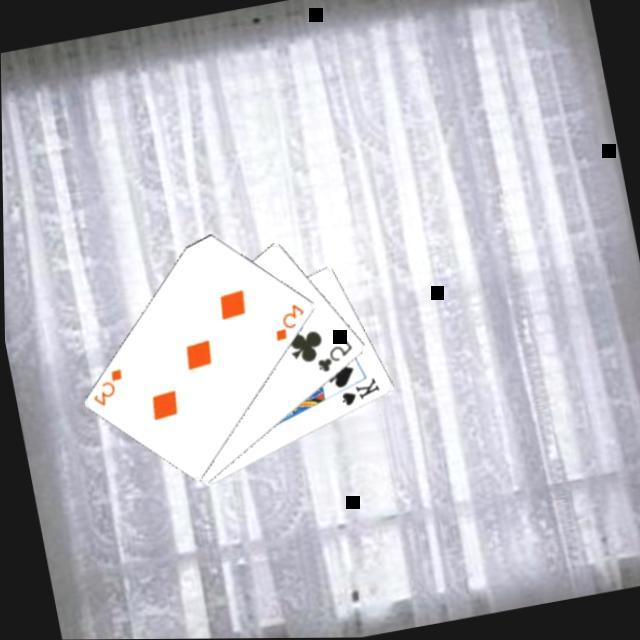3D: (264, 296, 312, 342), (83, 362, 131, 408)
5C: (310, 333, 359, 375)
KS: (334, 371, 384, 409)
